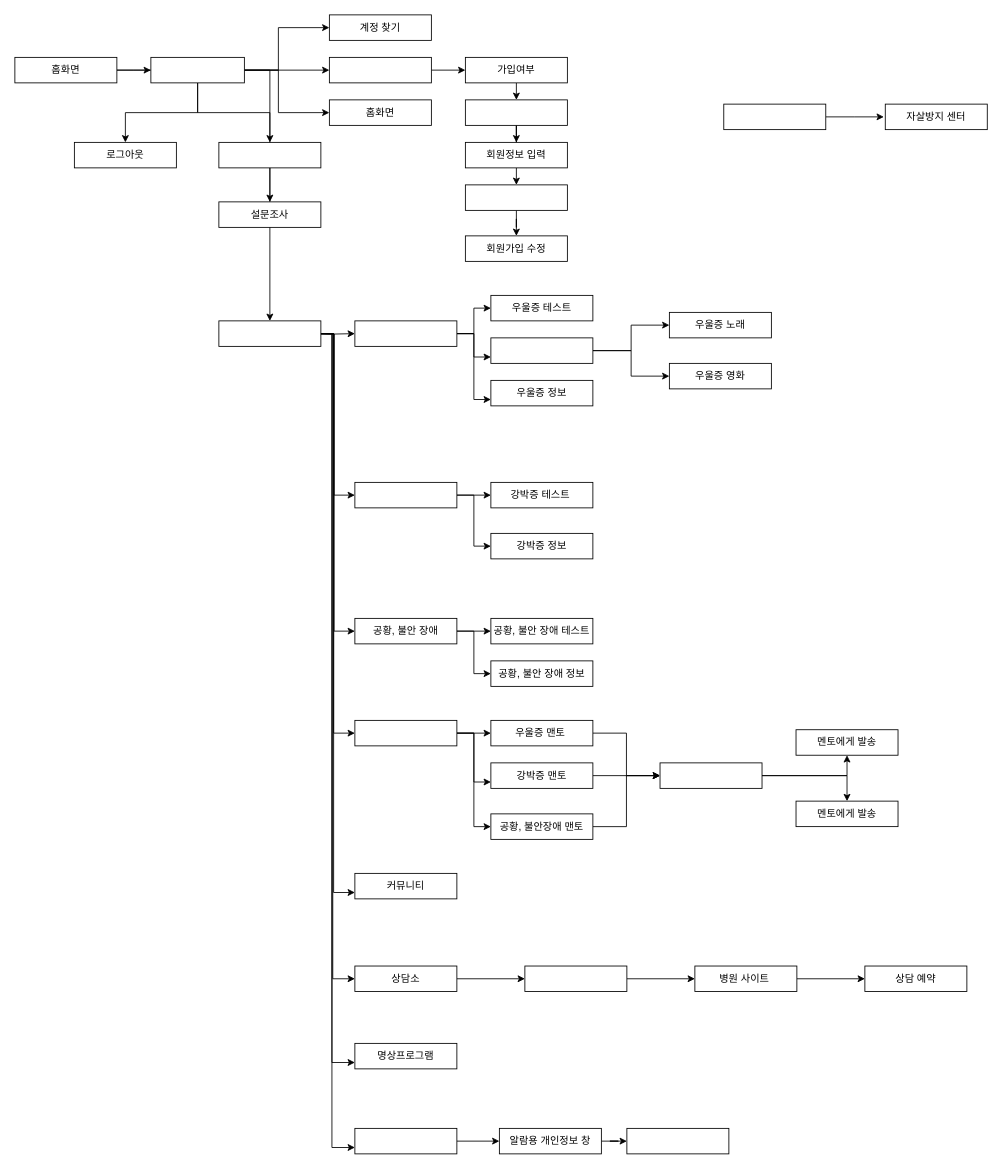
Image size: 1002x1170. Some labels were removed from this diagram. The box of each missing label's shape, as (x1, y1, x2, y2) in pixels:
강박증: (354, 482, 457, 508)
동반자살 방지: (723, 103, 826, 130)
로그인: (150, 57, 244, 83)
멘토: (354, 720, 457, 746)
멘토프로필: (659, 762, 762, 788)
병원 정보: (524, 965, 627, 992)
서비스 카테고리: (218, 320, 321, 346)
약 시간, 정보 기입: (626, 1128, 729, 1154)
약 알람: (354, 1128, 457, 1154)
약관동의: (465, 99, 567, 125)
우울증: (354, 320, 457, 346)
우울증 노래 영화 추천: (490, 337, 593, 363)
프로필 작성: (218, 142, 321, 168)
회원가입: (329, 57, 431, 83)
회원가입 완료: (465, 184, 567, 210)
